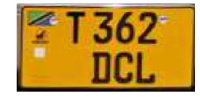T: (64, 10, 87, 44)
